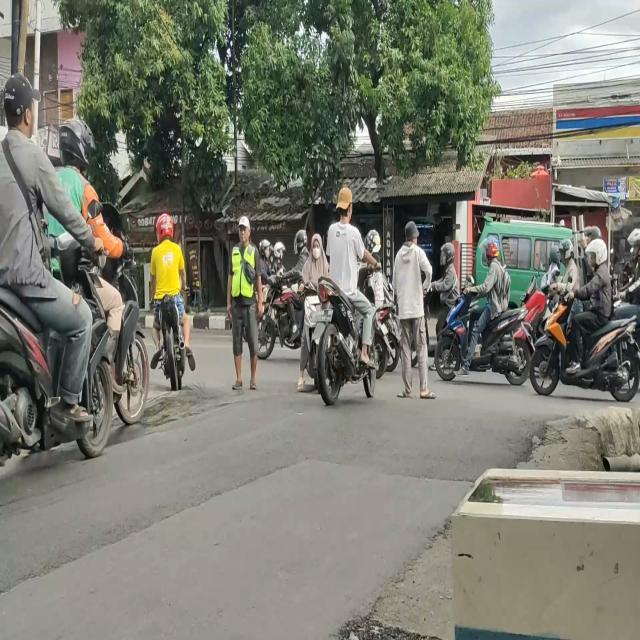helmet: (60, 119, 91, 160), (588, 242, 608, 266), (156, 212, 174, 235), (483, 238, 499, 262), (440, 243, 454, 265), (558, 242, 572, 260), (368, 234, 380, 252), (296, 232, 307, 248), (275, 242, 284, 261), (259, 240, 269, 257)
no-helmet: (6, 74, 34, 138), (336, 190, 354, 224), (312, 236, 321, 256)
